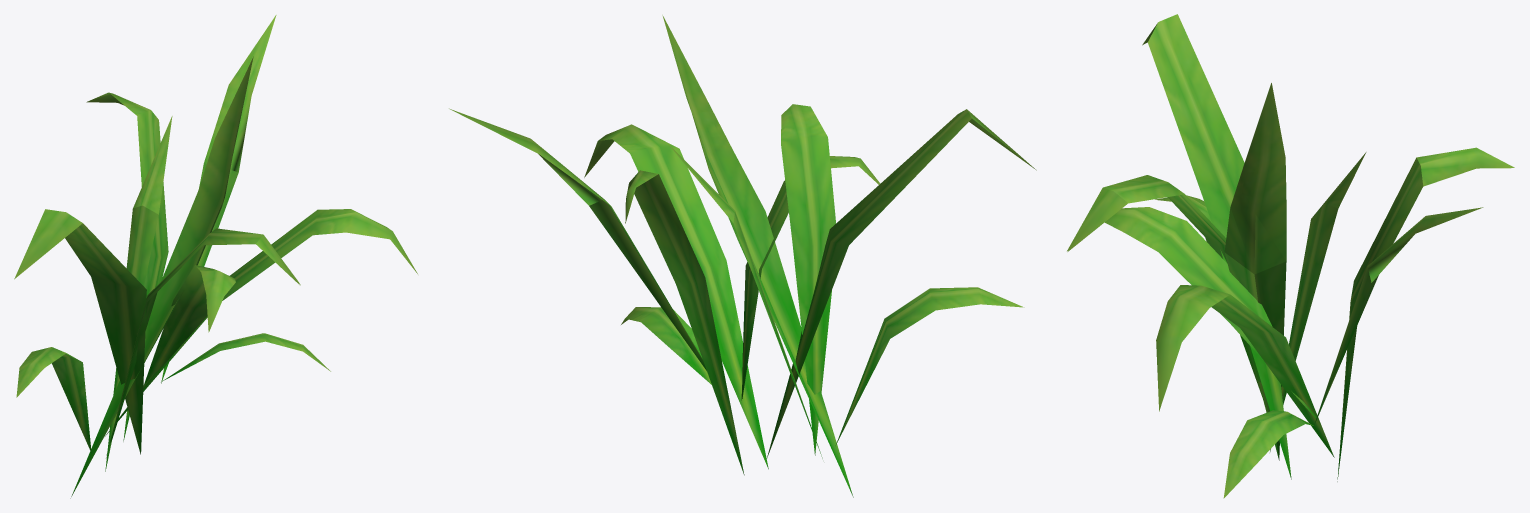
File: cao_06.FBX
The picture shows the model from 3 angles, left to right: view 1: azimuth 30°, elevation 25°; view 2: azimuth 150°, elevation 25°; view 3: azimuth 270°, elevation 25°; orthographic projection. The views are drawn at different scales.
Visible parts, largest first — view 1: Object004; view 2: Object004; view 3: Object004.
Part boxes in pixels (x1,y1,x2,y2): Object004: (14,15,417,498); Object004: (449,15,1036,497); Object004: (1067,14,1514,498).
Bounding box in the file's own units: 105 × 98.09 × 82.22.
